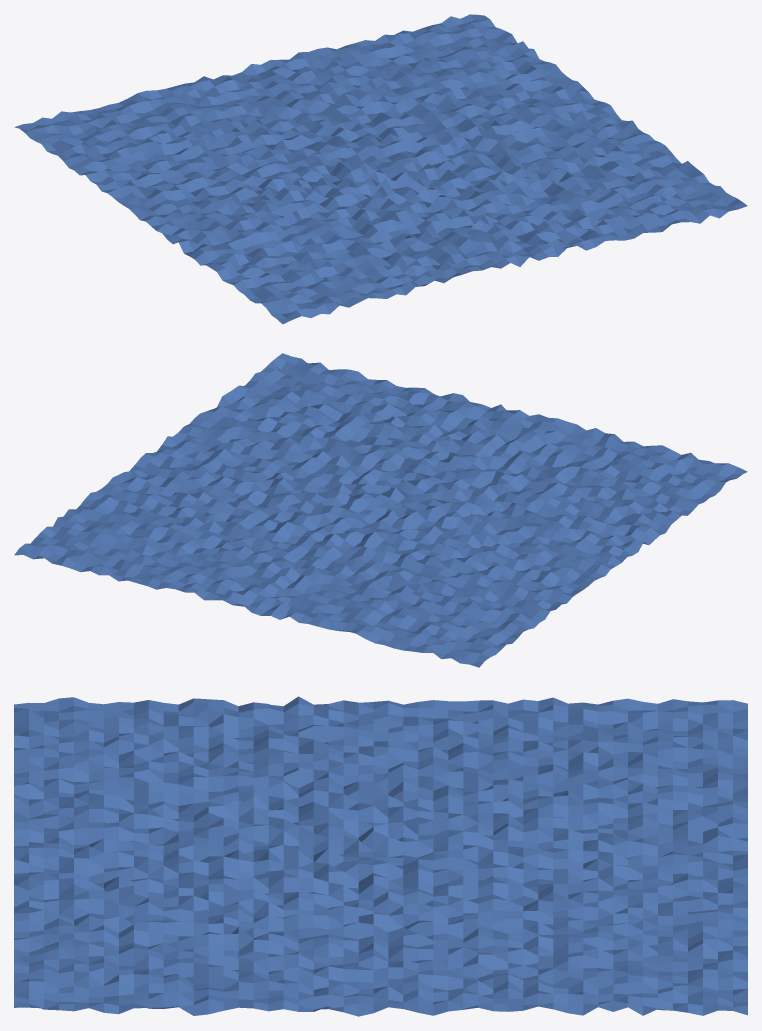
The model's file is BasePlane.fbx.
3 renders of one model, top to bottom at view 1: azimuth 30°, elevation 25°; view 2: azimuth 150°, elevation 25°; view 3: azimuth 270°, elevation 25°, orthographic. The views are drawn at different scales.
Parts seen in each view (by area): view 1: Grid; view 2: Grid; view 3: Grid.
Boxes of the visible parts, x1,y1,x2,y2 form: Grid: [14, 14, 747, 324]; Grid: [14, 353, 747, 667]; Grid: [14, 696, 747, 1016].
Bounding box in the file's own units: 6000 × 152 × 6000.
